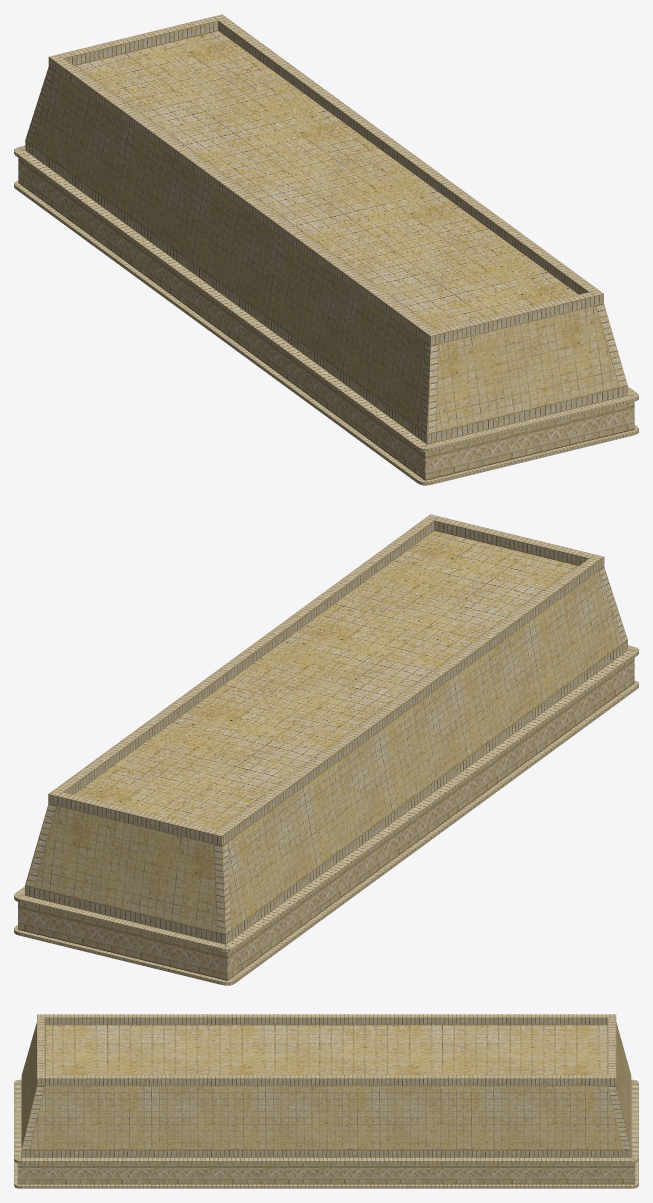
Rendered from tutorial_structure_exit_roof.dae.
3 views of the same model, one above another, from view 1: azimuth 30°, elevation 25°; view 2: azimuth 150°, elevation 25°; view 3: azimuth 270°, elevation 25° (orthographic). The views are drawn at different scales.
Visible parts, largest first — view 1: tutorial_structure_exit_roof; view 2: tutorial_structure_exit_roof; view 3: tutorial_structure_exit_roof.
Part boxes in pixels (x1,y1,x2,y2): tutorial_structure_exit_roof: (14,14,638,485); tutorial_structure_exit_roof: (14,514,638,985); tutorial_structure_exit_roof: (14,1014,638,1188).
Bounding box in the file's own units: 17.18 × 55.78 × 10.01.
4 materials, 4 textured.
